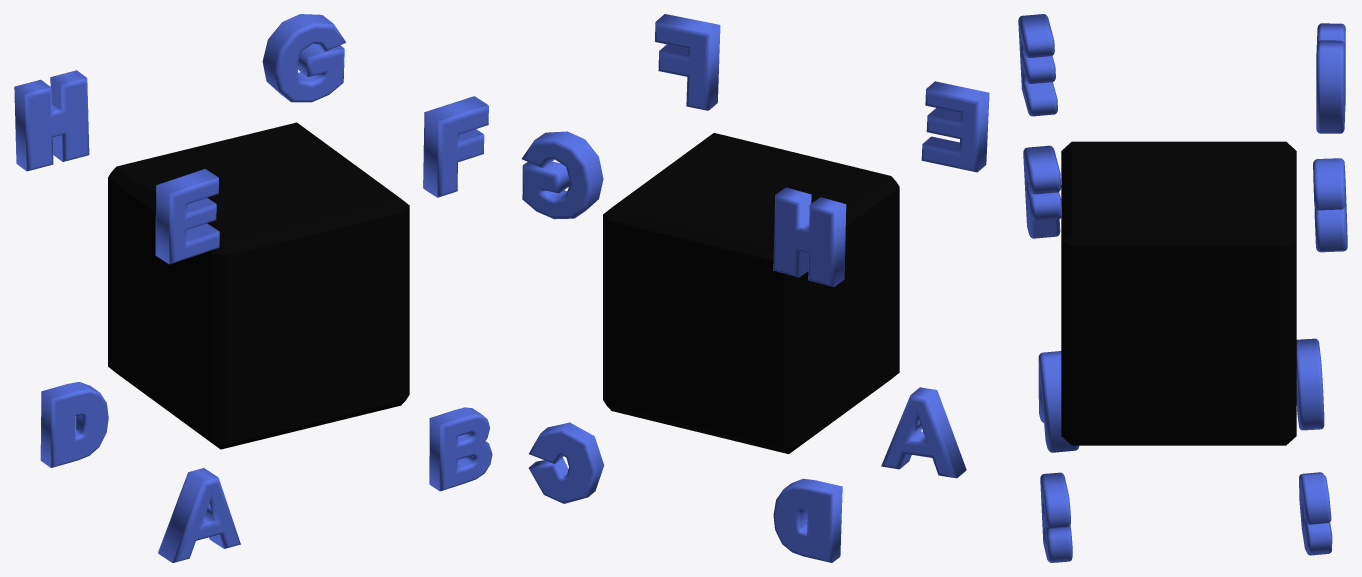
Rendered from kubustr4.glb.
The picture shows the model from 3 angles, left to right: view 1: azimuth 30°, elevation 25°; view 2: azimuth 150°, elevation 25°; view 3: azimuth 270°, elevation 25°; orthographic projection. The views are drawn at different scales.
Visible parts, largest first — view 1: Cube, Text.007, Text.006, Text.004, Text.003, Text.005, Text.009, Text.001; view 2: Cube, Text.007, Text.006, Text.004, Text.003, Text.005, Text.002, Text.009; view 3: Cube, Text.004, Text.007, Text.005, Text.006, Text.001, Text.002, Text.003, Text.009.
Part boxes in pixels (x1,y1,x2,y2): Cube: (108, 122, 409, 449); Text.007: (14, 70, 89, 171); Text.006: (262, 14, 345, 102); Text.004: (155, 169, 219, 264); Text.003: (40, 382, 108, 467); Text.005: (423, 96, 488, 197); Text.009: (158, 468, 240, 562); Text.001: (429, 407, 492, 491); Cube: (603, 133, 899, 454); Text.007: (773, 187, 846, 287); Text.006: (521, 131, 603, 219); Text.004: (921, 81, 989, 172); Text.003: (773, 478, 842, 562); Text.005: (655, 14, 720, 110); Text.002: (528, 422, 604, 503); Text.009: (881, 387, 966, 478); Cube: (1061, 141, 1296, 445); Text.004: (1018, 14, 1057, 116); Text.007: (1316, 23, 1345, 133); Text.005: (1023, 145, 1062, 238); Text.006: (1313, 158, 1347, 252); Text.001: (1040, 472, 1072, 562); Text.002: (1299, 472, 1332, 555); Text.003: (1296, 338, 1324, 430); Text.009: (1038, 351, 1079, 452).
Size of the model in its own units: 3.43 by 3.75 by 2.8.
